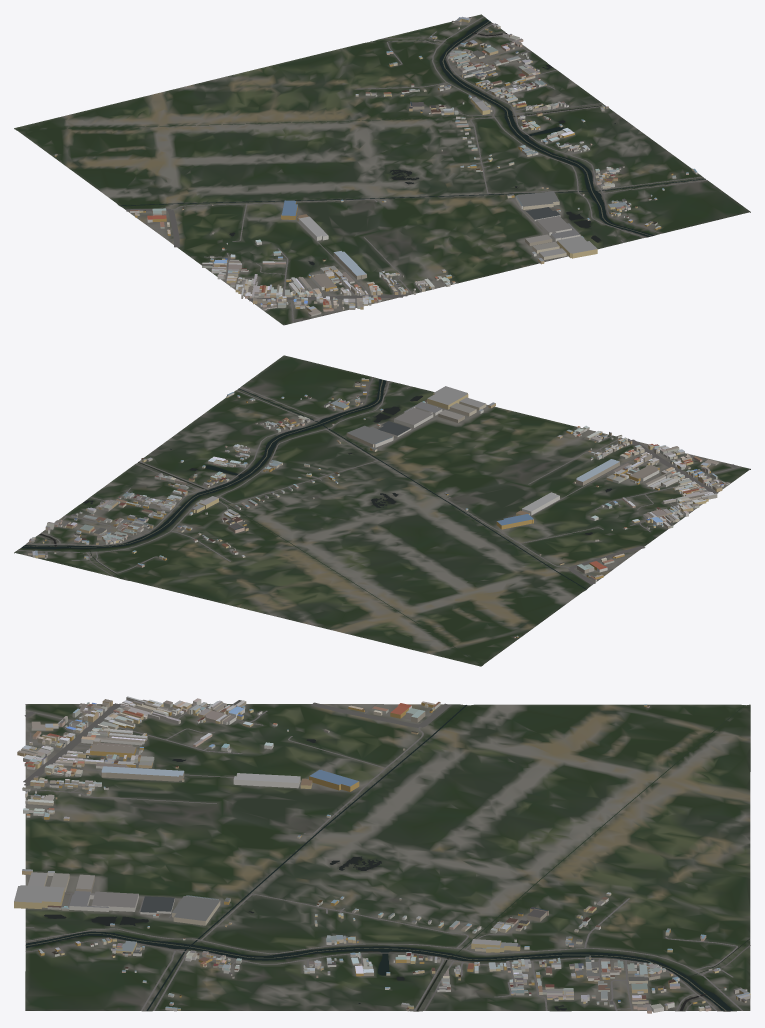
3 views of the same model, one above another, from view 1: azimuth 30°, elevation 25°; view 2: azimuth 150°, elevation 25°; view 3: azimuth 270°, elevation 25° (orthographic). The views are drawn at different scales.
Visible parts, largest first — view 1: ground, buildings, roads, water; view 2: ground, buildings, roads, water; view 3: ground, buildings, roads, water.
Part boxes in pixels (x1,y1,x2,y2): ground: [14, 14, 750, 324]; buildings: [54, 16, 697, 316]; roads: [126, 16, 707, 325]; water: [16, 19, 705, 265]; ground: [14, 355, 750, 666]; buildings: [28, 378, 729, 637]; roads: [17, 377, 750, 584]; water: [21, 379, 612, 665]; ground: [25, 704, 750, 1011]; buildings: [14, 696, 750, 1013]; roads: [23, 702, 750, 1010]; water: [25, 705, 749, 1011].
Size of the model in its own units: 1425 by 21.5 by 1424.
